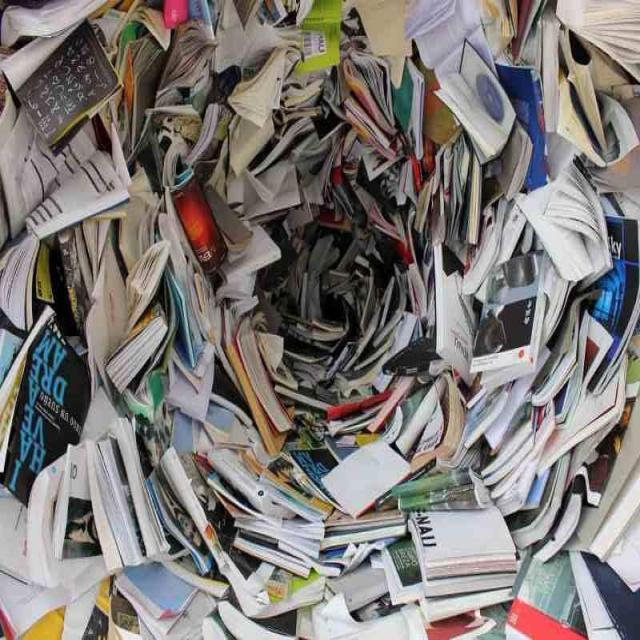Kertas: (29, 39, 555, 607)
